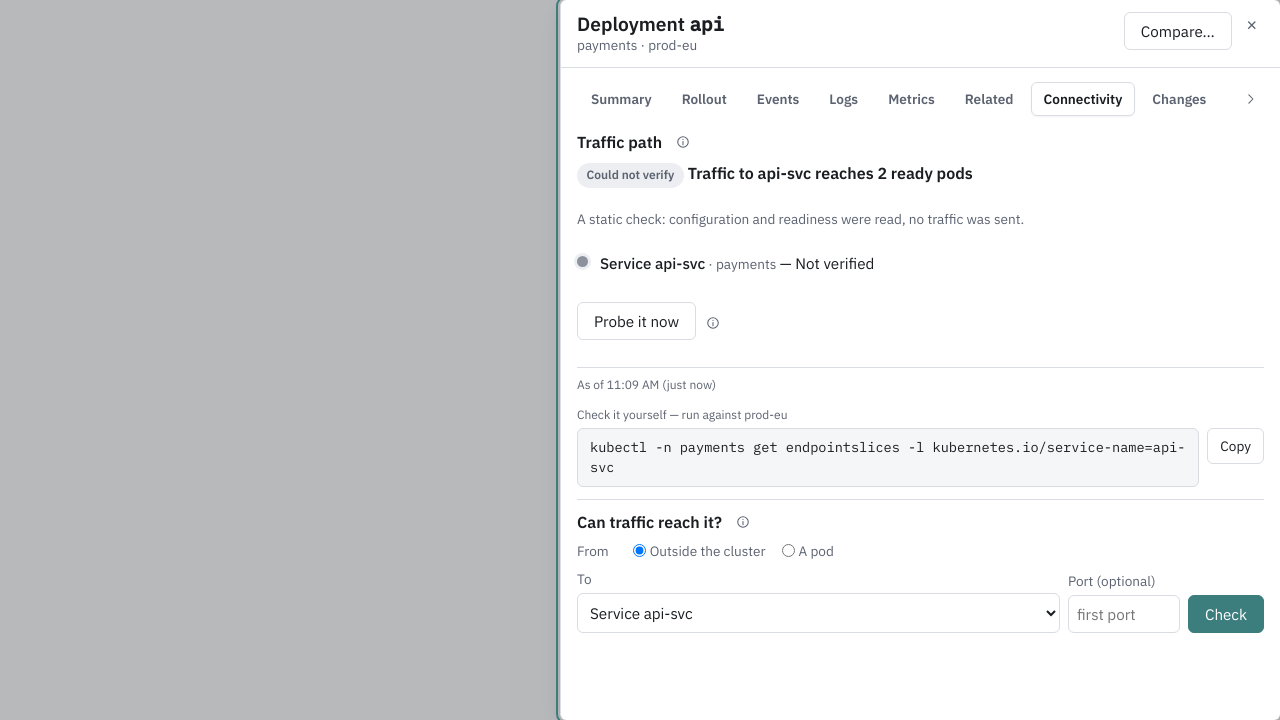
it: ObjectInspector — Connectivity › will not check from a pod until the pod is named
The image size is (1280, 720).
expect the text "Could not verify Traffic to api-svc reaches 2 ready pods" is shown: met, box [577, 163, 973, 188]
What coordinates should you click on to do the following:
click the radio button labelled "A pod"
I would click on:
 (788, 551)
Its box is [782, 544, 794, 557].
(page scrolled)
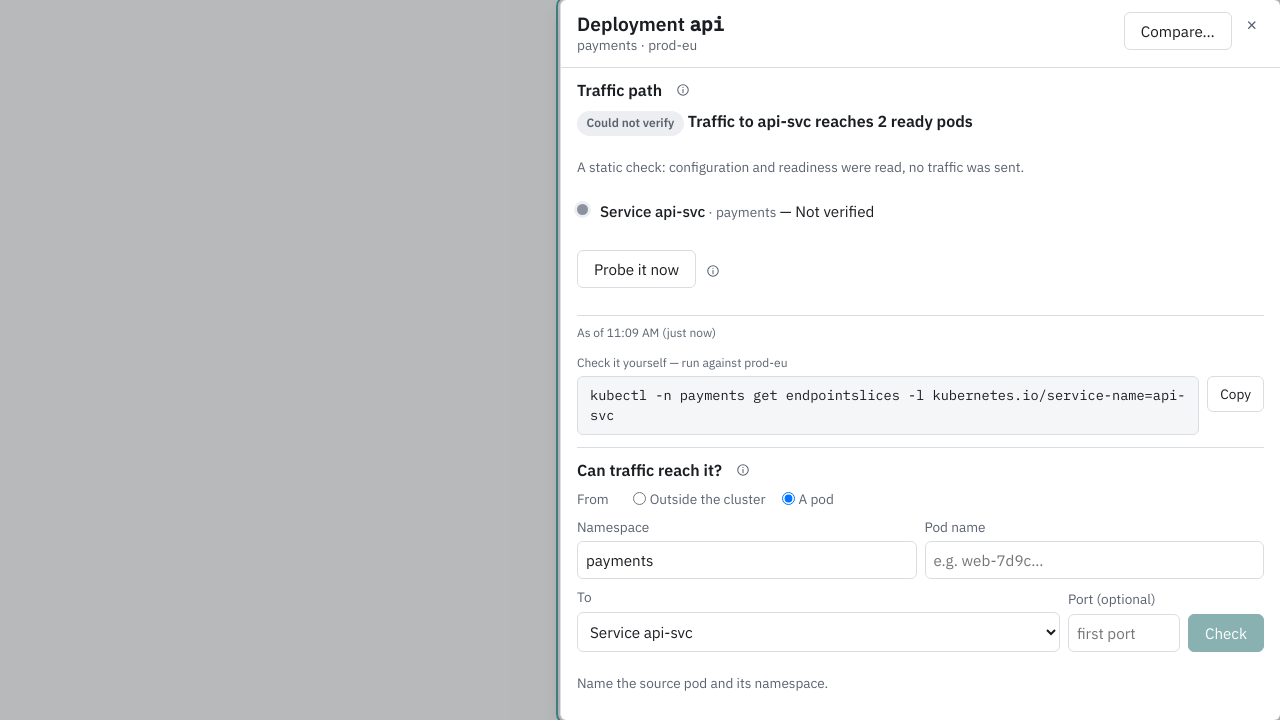
expect the button "Check" is disabled: met, box [1188, 614, 1264, 652]
expect the text "Name the source pod and its namespace." is shown: met, box [577, 674, 828, 692]
